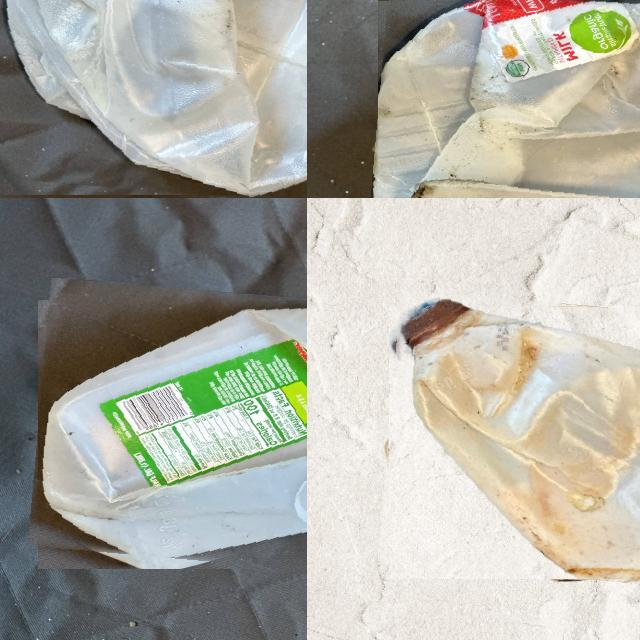milk-jug: (32, 288, 307, 580), (382, 297, 640, 587), (0, 0, 307, 198), (372, 0, 640, 198)
